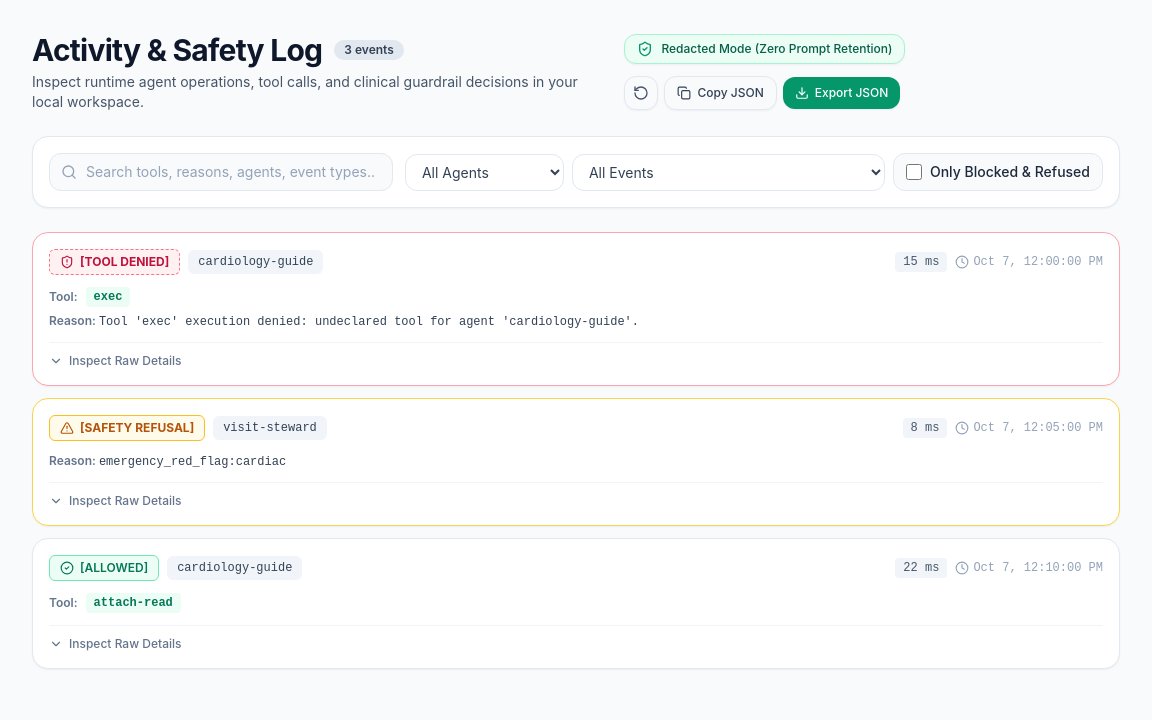
ActivityClient Page Component (apps/web/src/app/activity/ActivityClient.tsx) › expands raw JSON view on inspect click
Click the button "Inspect Raw Details" below "[TOOL DENIED]". click: (115, 361)
box: [49, 353, 182, 369]
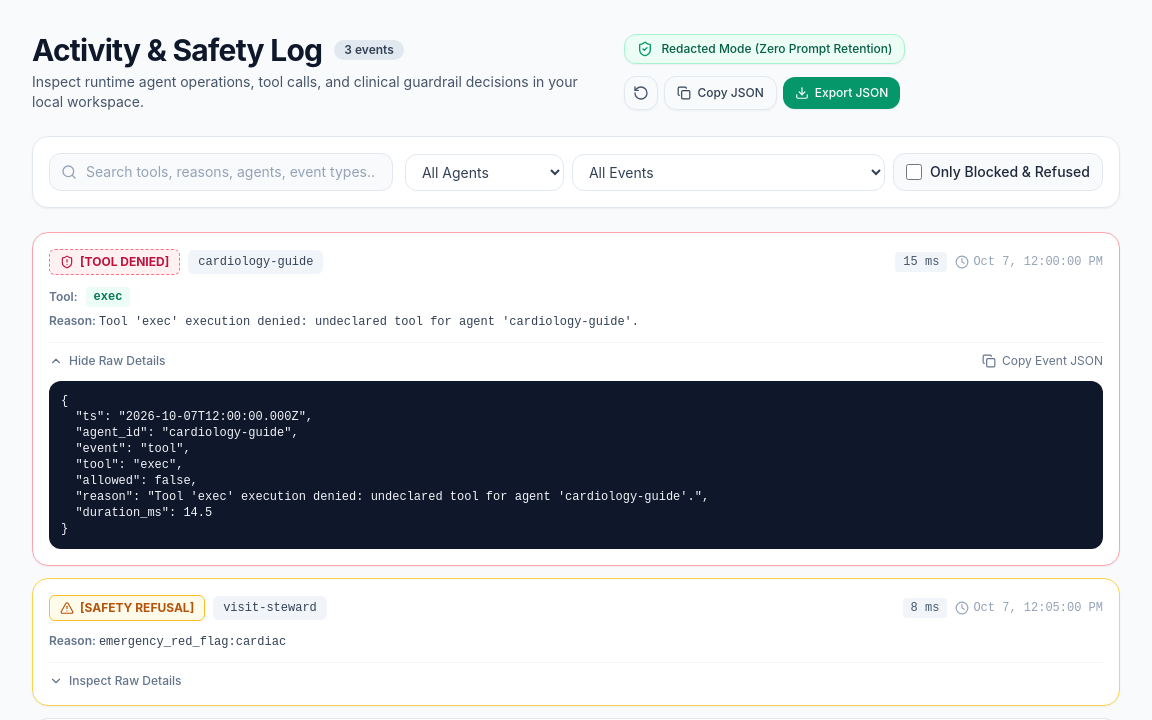
Now the text with test id "audit-raw-json" is shown, box [49, 381, 1103, 549]
Now the button "Hide Raw Details" is shown, box [49, 353, 166, 369]
